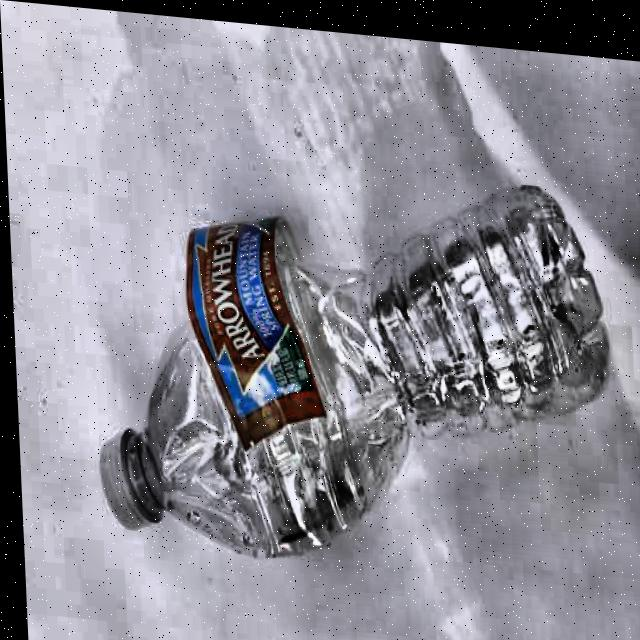plastic: (84, 141, 622, 593)
